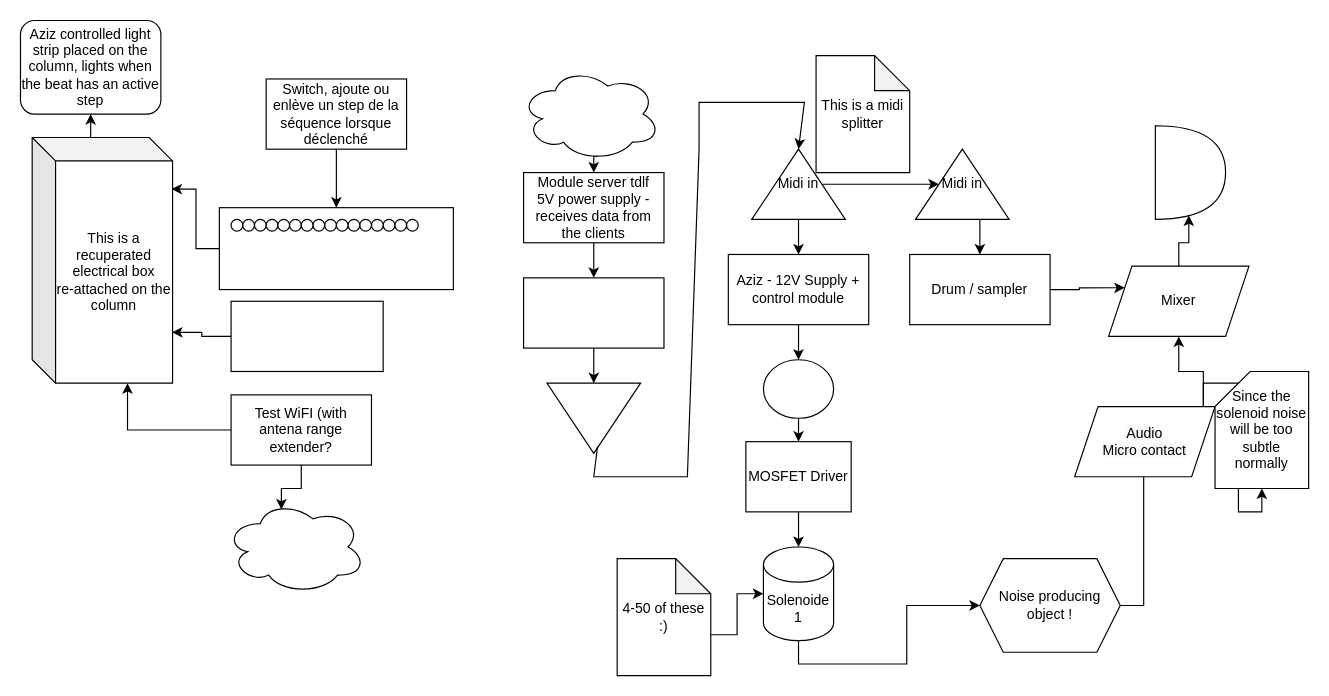
Image size: 1329x696. Some labels were removed from this diagram. Each missing label, with the box of its shape:
16 step sequencer ESP32 - adapté de tdlf client: (218, 207, 453, 290)
Light feedback: (762, 359, 834, 418)
Midi out: (546, 382, 641, 453)
Power supply - 5v batteries are sufficient?: (230, 300, 383, 371)
Sends midi data on the step: (522, 277, 664, 348)
Speaker! Find a pair of these / battery powered?: (1154, 125, 1226, 219)
Test this!! Patrick has antenas: (224, 499, 366, 594)
Wifi / test the hell out/!!: (519, 66, 660, 161)
